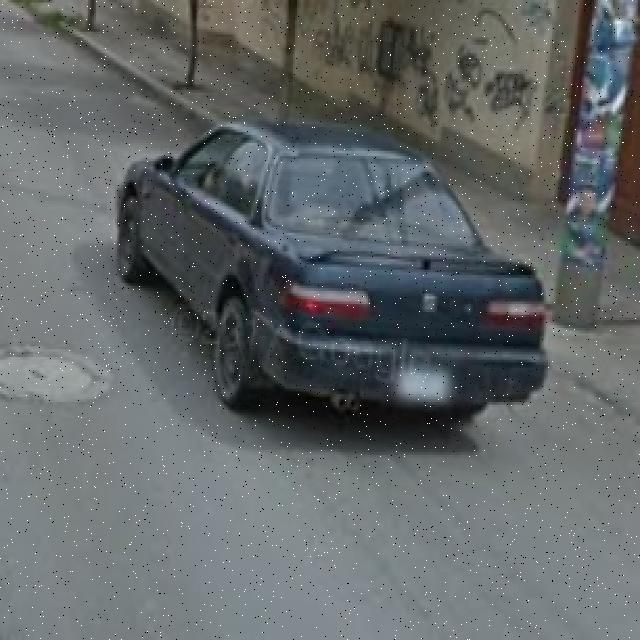cars: (120, 116, 558, 440)
